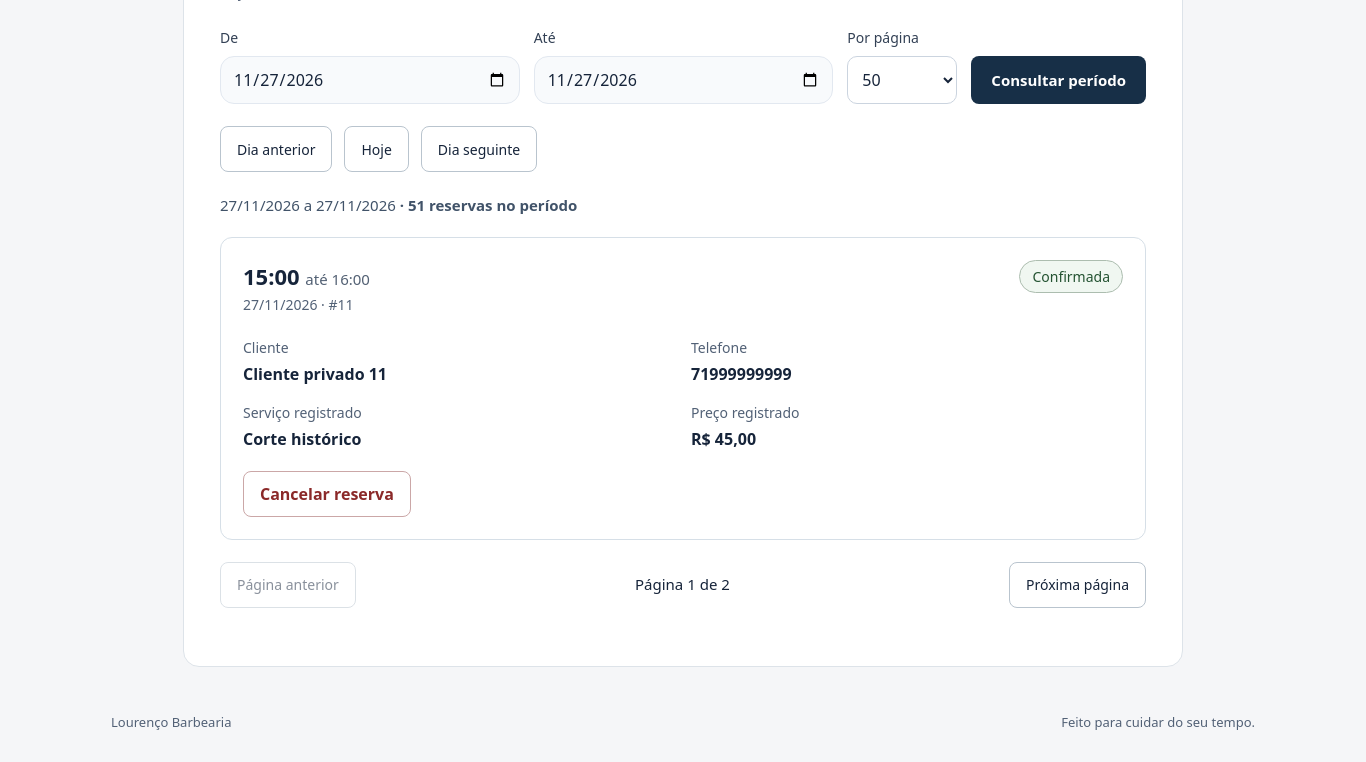
it: uses server pagination metadata and honours page boundaries
(page scrolled)
Expected: the text "Página 1 de 2" is shown, x1=635 y1=573 x2=730 y2=596
Click the button "Próxima página": point(1078, 585) x1=1009 y1=562 x2=1146 y2=608
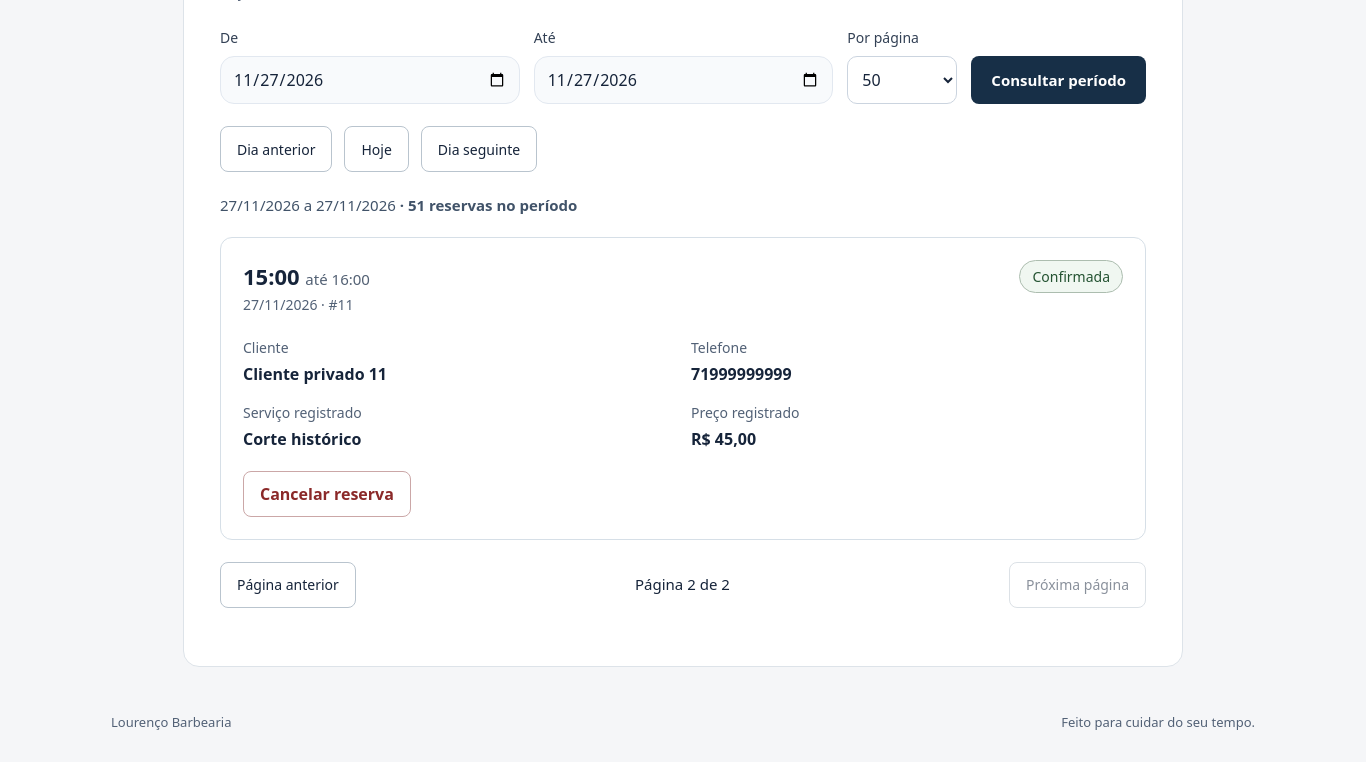
Expected: the text "Página 2 de 2" is shown, x1=635 y1=573 x2=730 y2=596
Expected: the button "Próxima página" is disabled, x1=1009 y1=562 x2=1146 y2=608
Click the button "Página anterior": point(288, 585) x1=220 y1=562 x2=356 y2=608
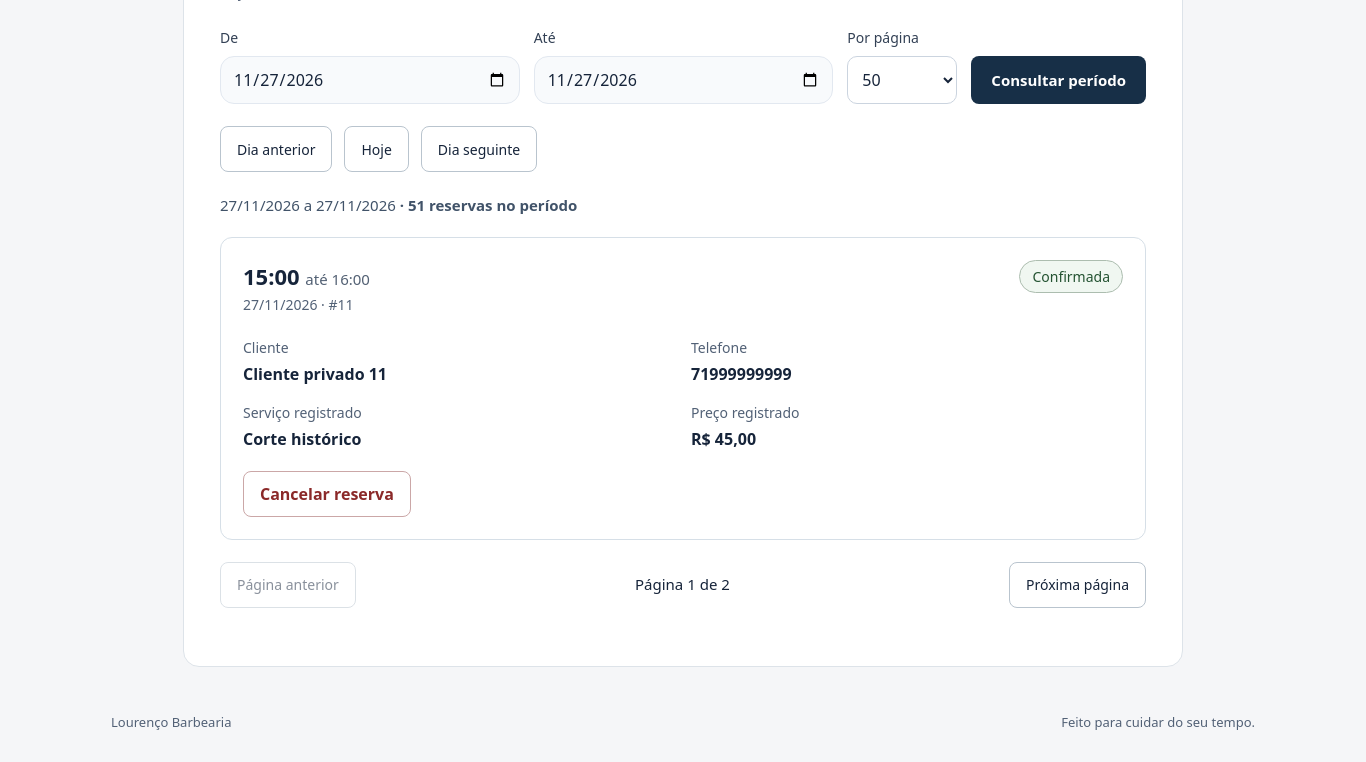
Expected: the text "Página 1 de 2" is shown, x1=635 y1=573 x2=730 y2=596
